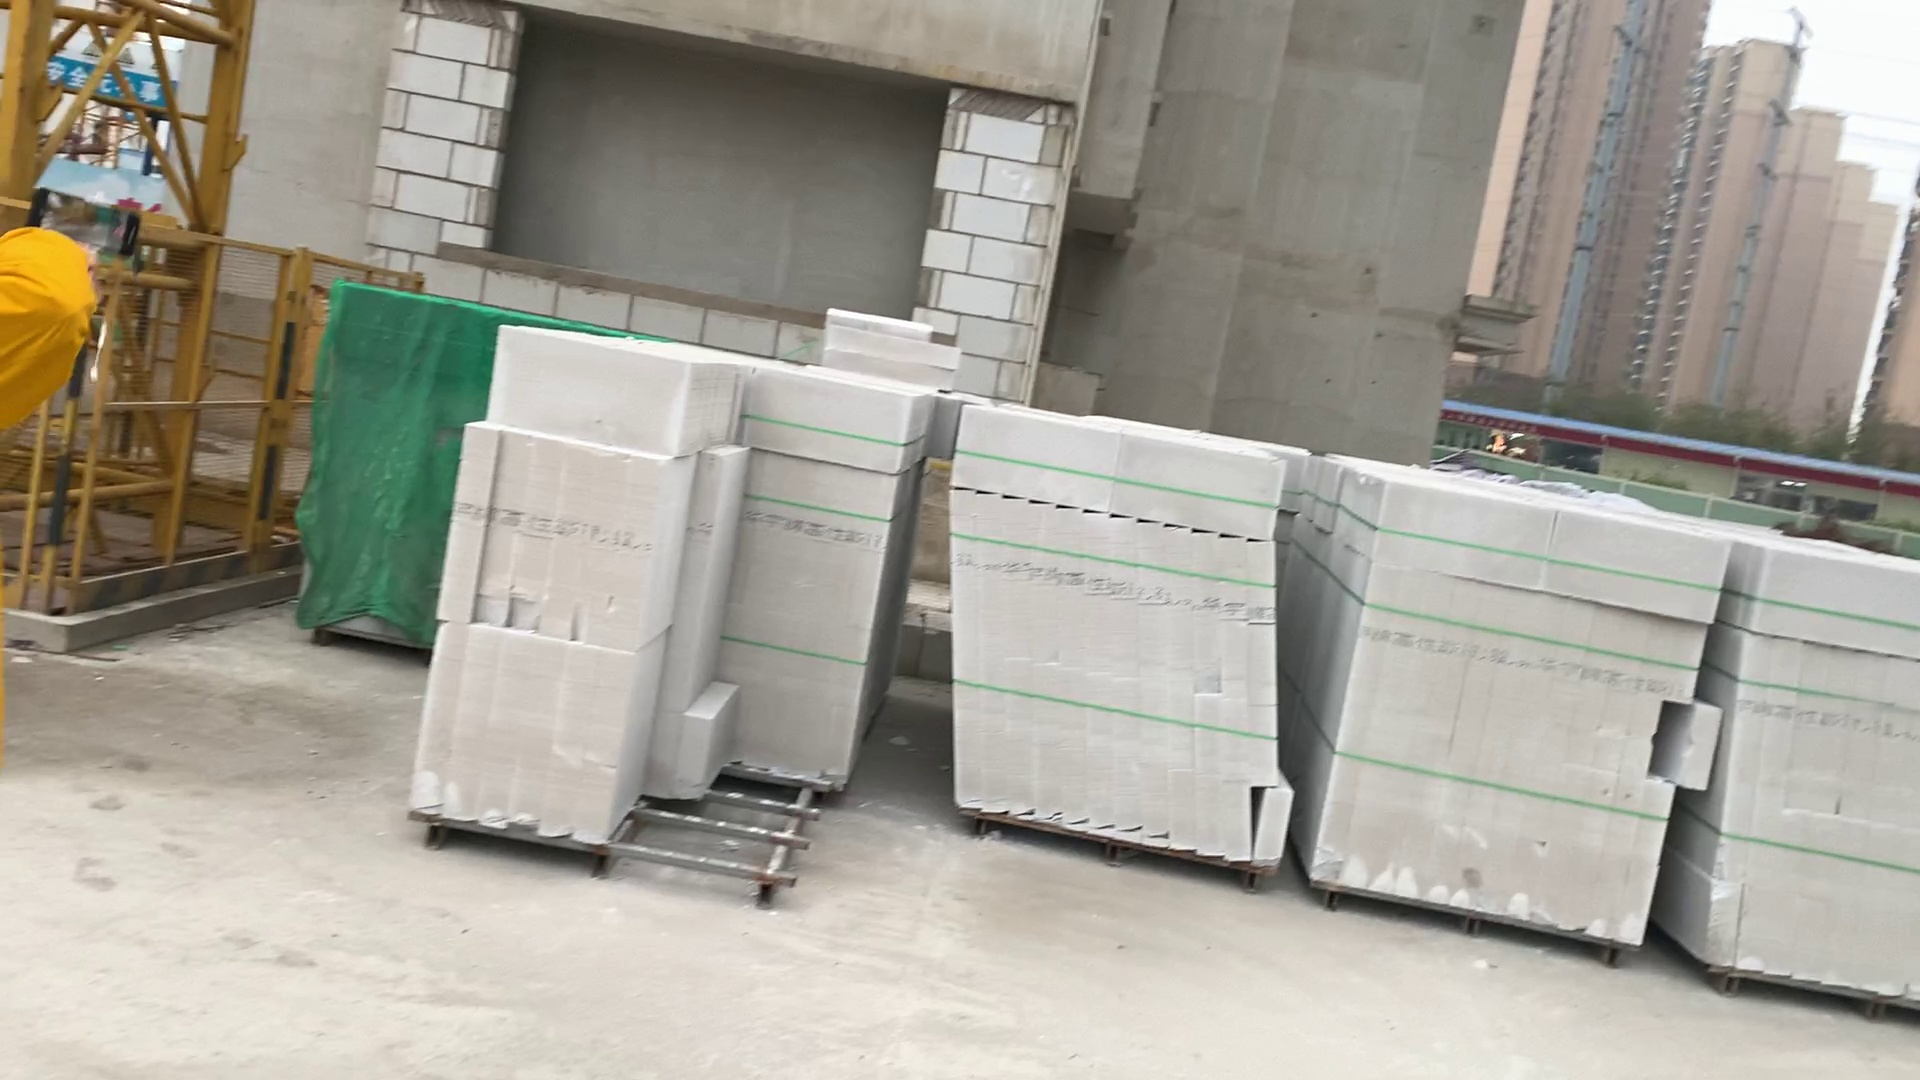brickwork: (423, 357, 915, 855), (1305, 479, 1710, 956), (942, 400, 1303, 873), (1710, 533, 1920, 997), (287, 280, 462, 649)
